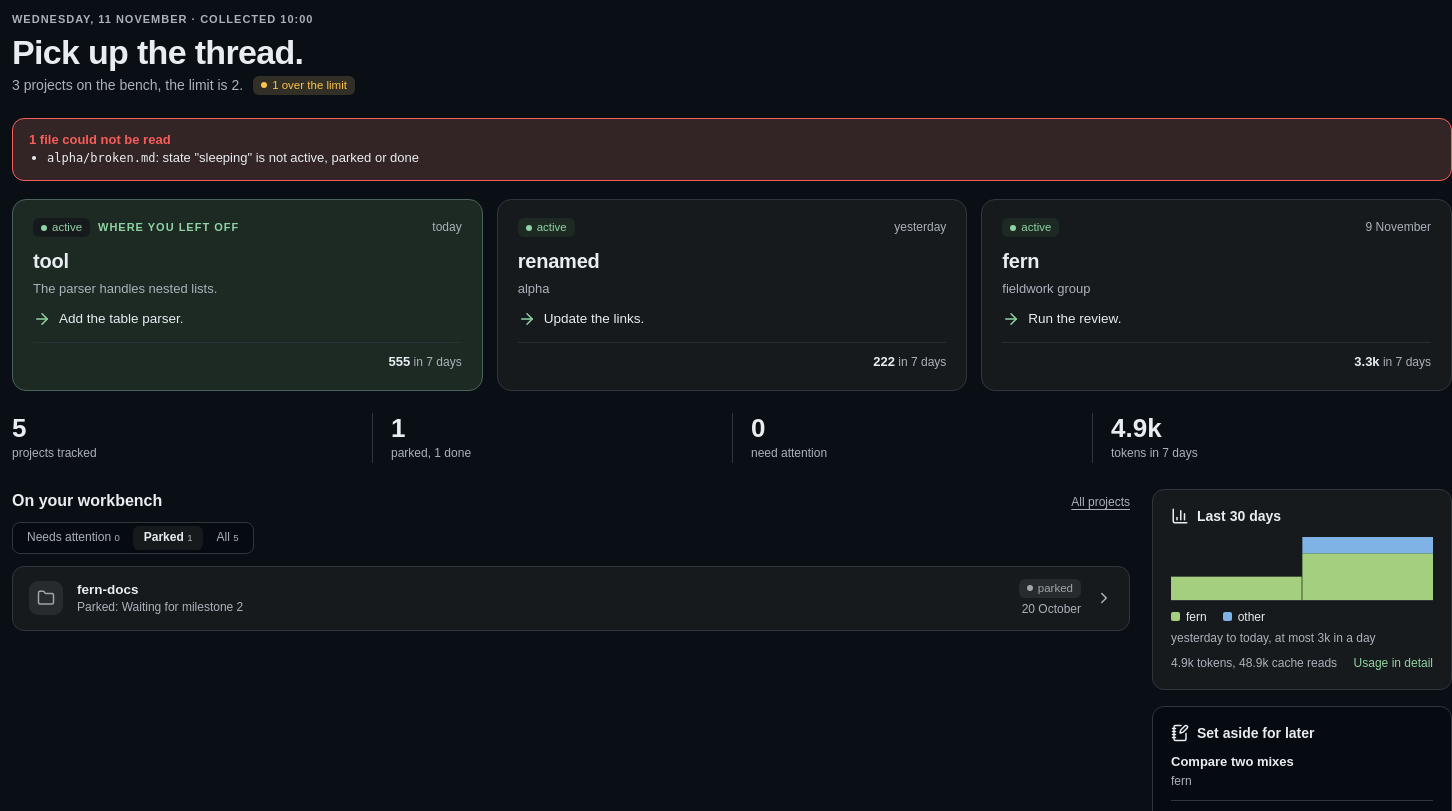
when nothing needs attention the workbench opens on the parked projects
Expected: the heading "Pick up the thread." is shown, [12,34,303,71]
Expected: the list item "fern-docs Parked: Waiting for milestone 2 parked 20 October" is shown, [29,579,1113,616]
Step 1. Click the button "Needs attention 0" → (73, 538), box [16,526,131,550]
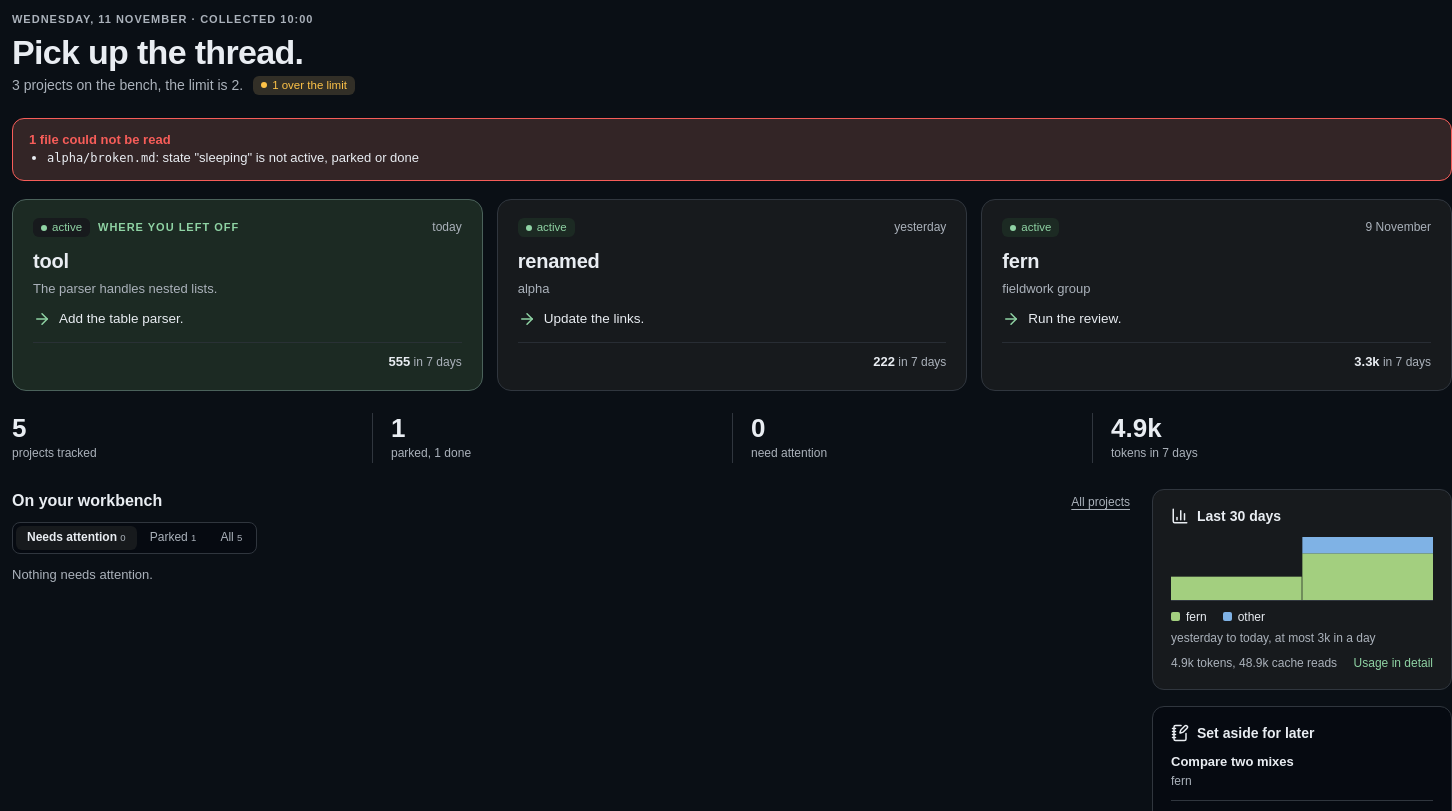
Result: the text "Nothing needs attention." is shown at [12,567,153,582]
